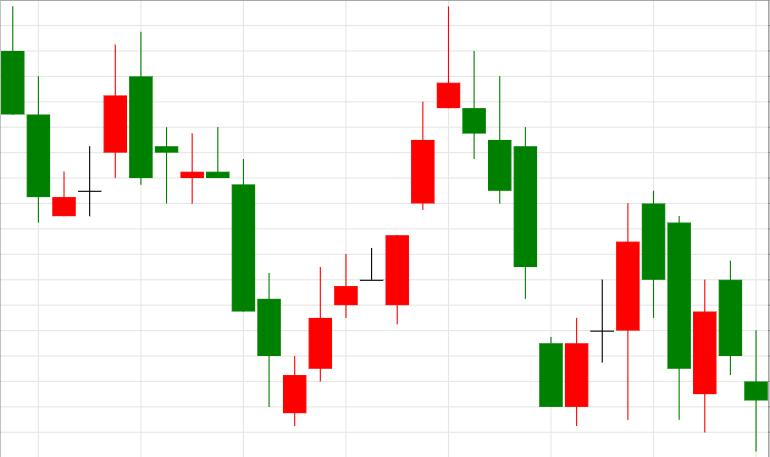bullish_engulfing_rise: (463, 50, 589, 426)
shooting_star_fall: (283, 7, 460, 426)
